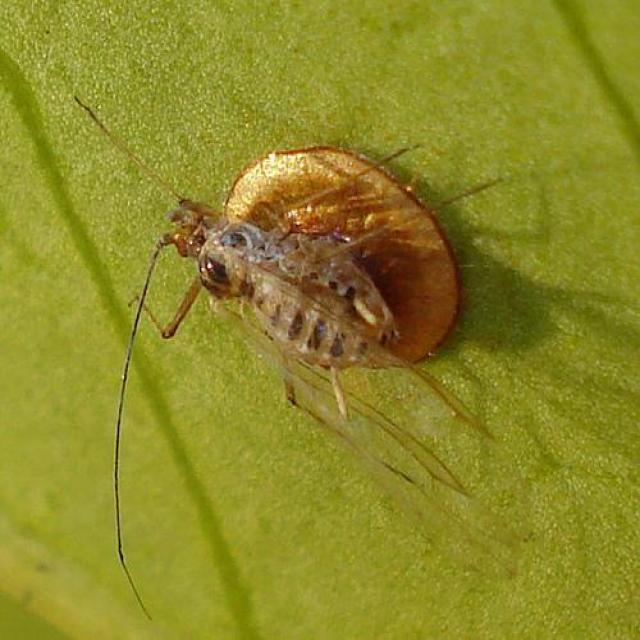Aphids: (69, 112, 508, 555)
